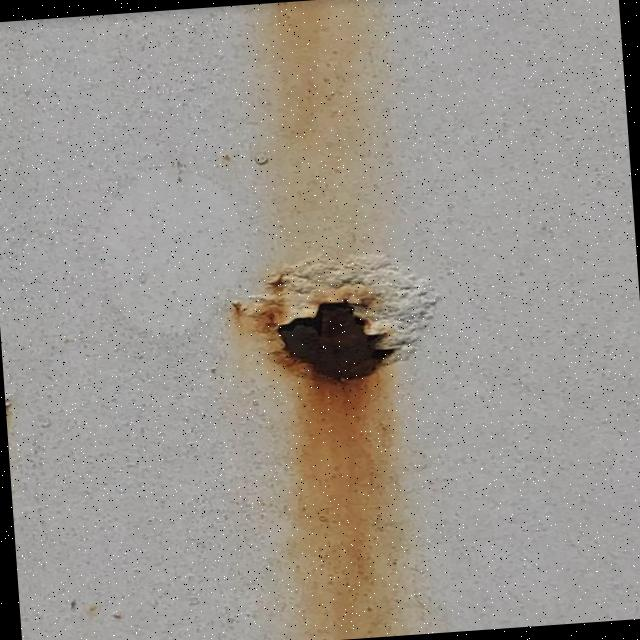Corrosion: (224, 242, 461, 640), (226, 243, 444, 391), (272, 292, 398, 386)
